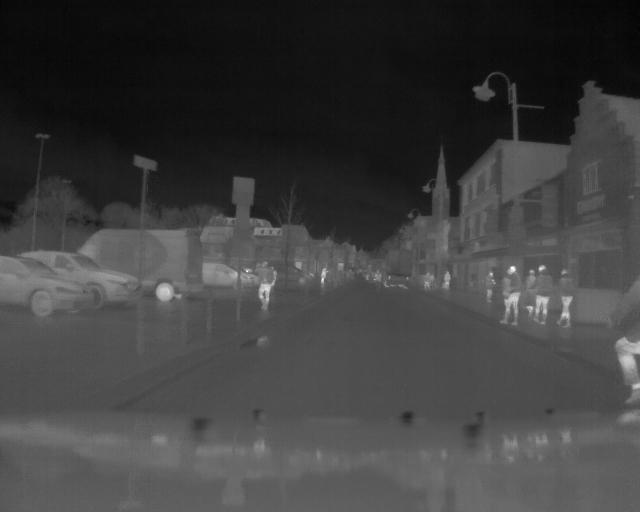car: (1, 254, 88, 324), (143, 217, 212, 303), (87, 260, 143, 307), (375, 242, 418, 287)
person: (603, 249, 640, 425), (499, 262, 521, 331), (250, 260, 275, 316), (558, 260, 575, 330), (536, 258, 550, 327), (482, 271, 497, 303), (318, 265, 332, 288), (444, 269, 453, 292)
